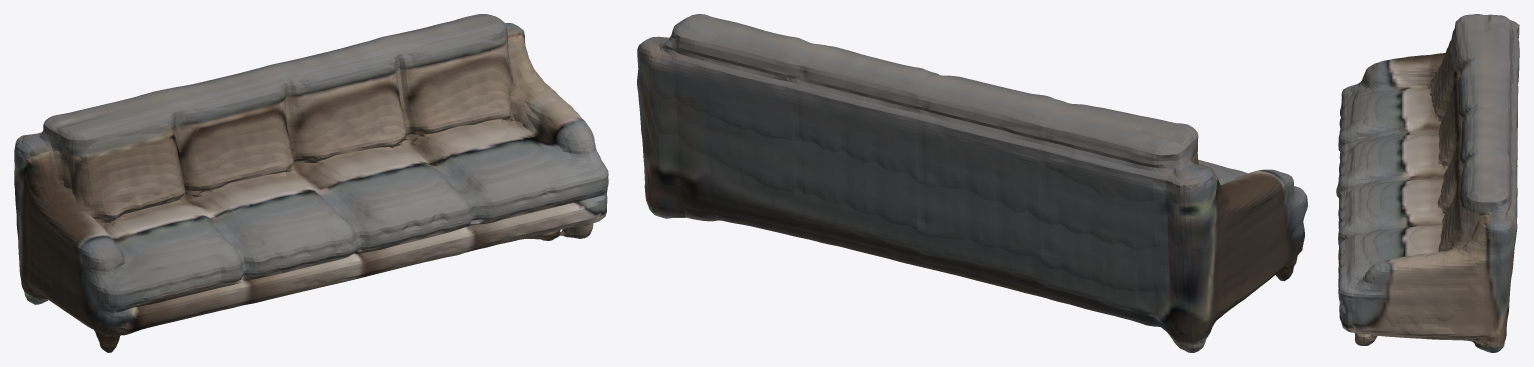
The model's file is sofa-003.glb.
The picture shows the model from 3 angles, left to right: view 1: azimuth 30°, elevation 25°; view 2: azimuth 150°, elevation 25°; view 3: azimuth 270°, elevation 25°; orthographic projection. The views are drawn at different scales.
Visible parts, largest first — view 1: geometry_0; view 2: geometry_0; view 3: geometry_0.
Part boxes in pixels (bbox=[...]): geometry_0: bbox=[14, 14, 608, 352]; geometry_0: bbox=[637, 14, 1307, 352]; geometry_0: bbox=[1336, 14, 1519, 352].
Size of the model in its own units: 260 by 88 by 95.
